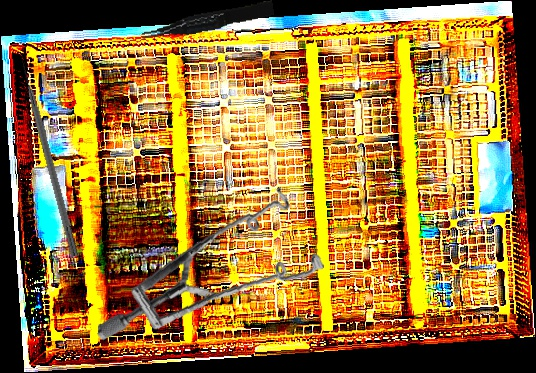Hook Surgical: (16, 54, 81, 258)
Speculum: (96, 171, 332, 364)
Tissue Forceps: (139, 0, 276, 42)
